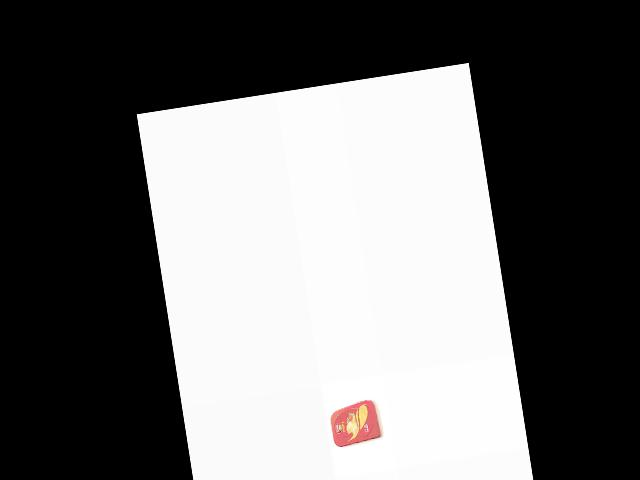cheese: (325, 398, 384, 450)
